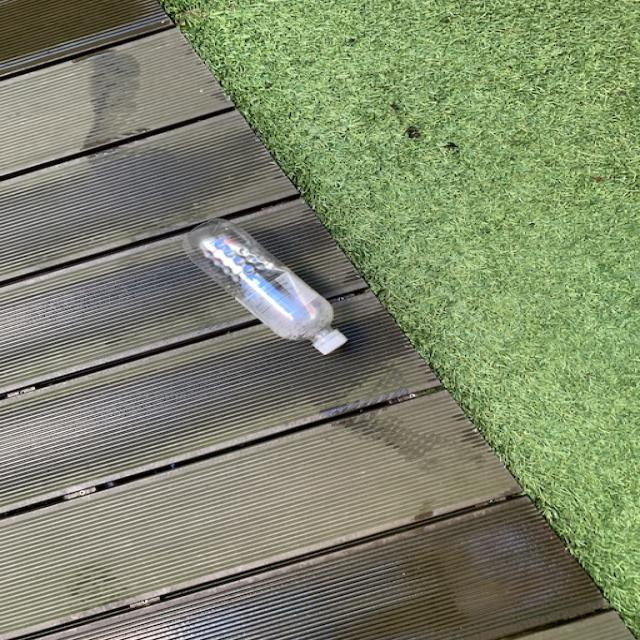Waste: (184, 219, 348, 355)
